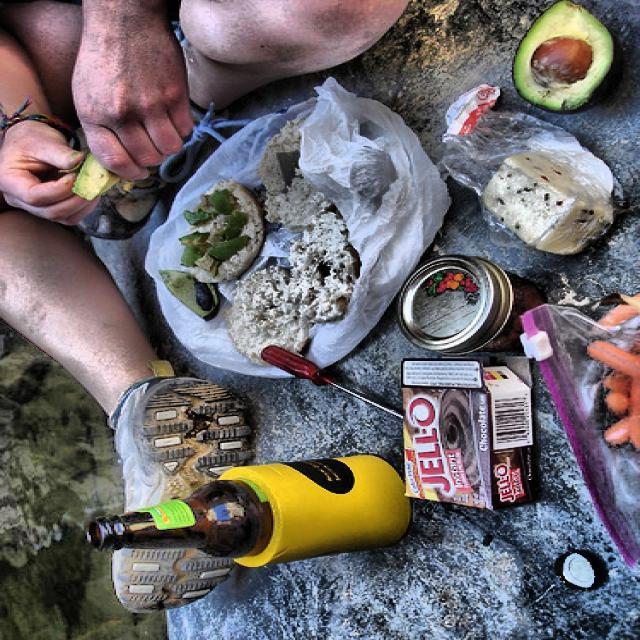screwdriver: (259, 346, 402, 418)
